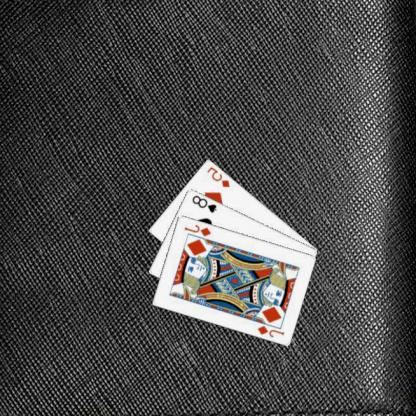5D: (206, 164, 233, 188)
8S: (191, 192, 220, 214)
JD: (256, 322, 288, 338), (184, 221, 214, 238)
